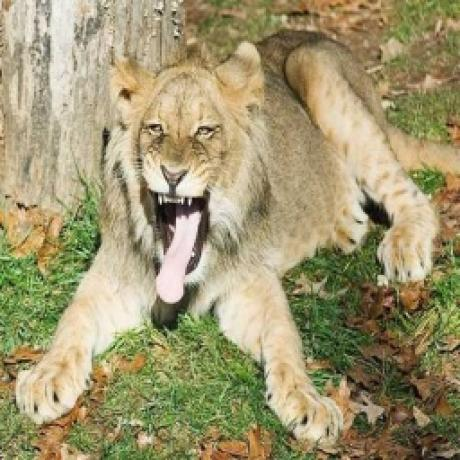Lion: (15, 25, 460, 450)
